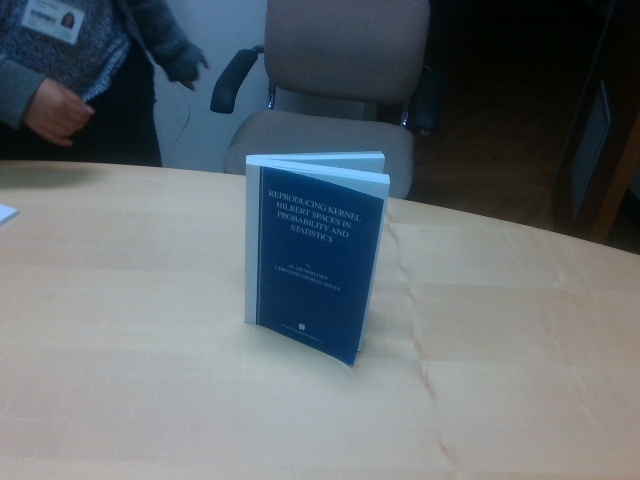book: (243, 150, 391, 368)
